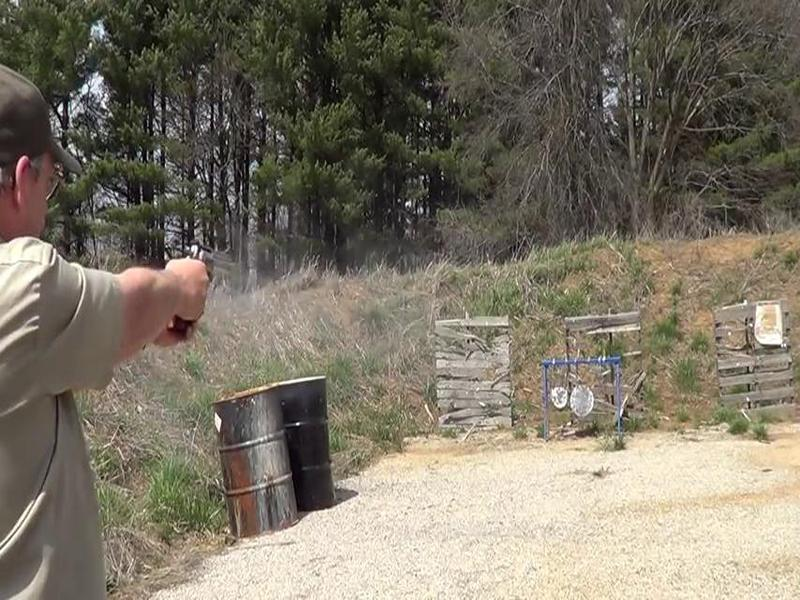Revolver: (166, 237, 266, 320)
